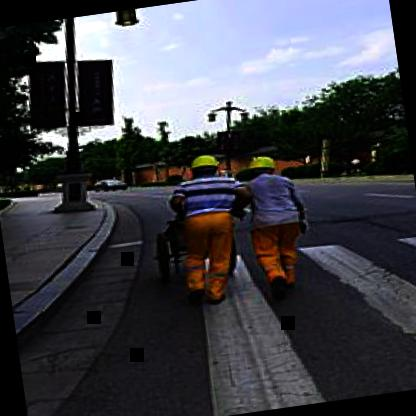helmet: (185, 150, 223, 179), (244, 150, 277, 181)
